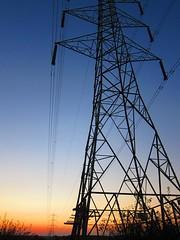power_tower: (60, 2, 180, 240)
